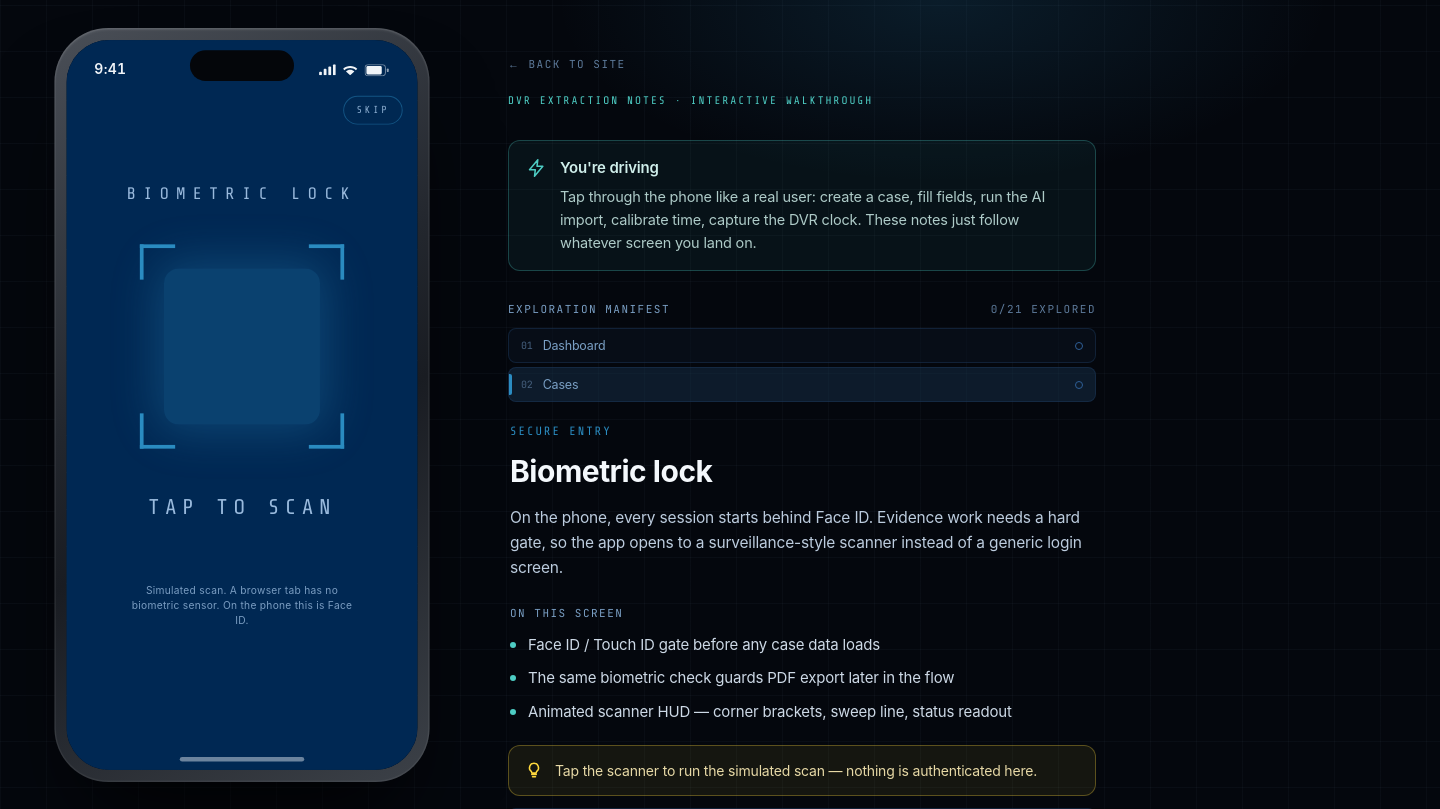
DemoExperience — boot gate › lands a first-time visitor on Cases, with the tab bar back
Click the button named "Run the simulated biometric scan" at (242, 405), box [66,40,418,770]
Wait 1500 ms
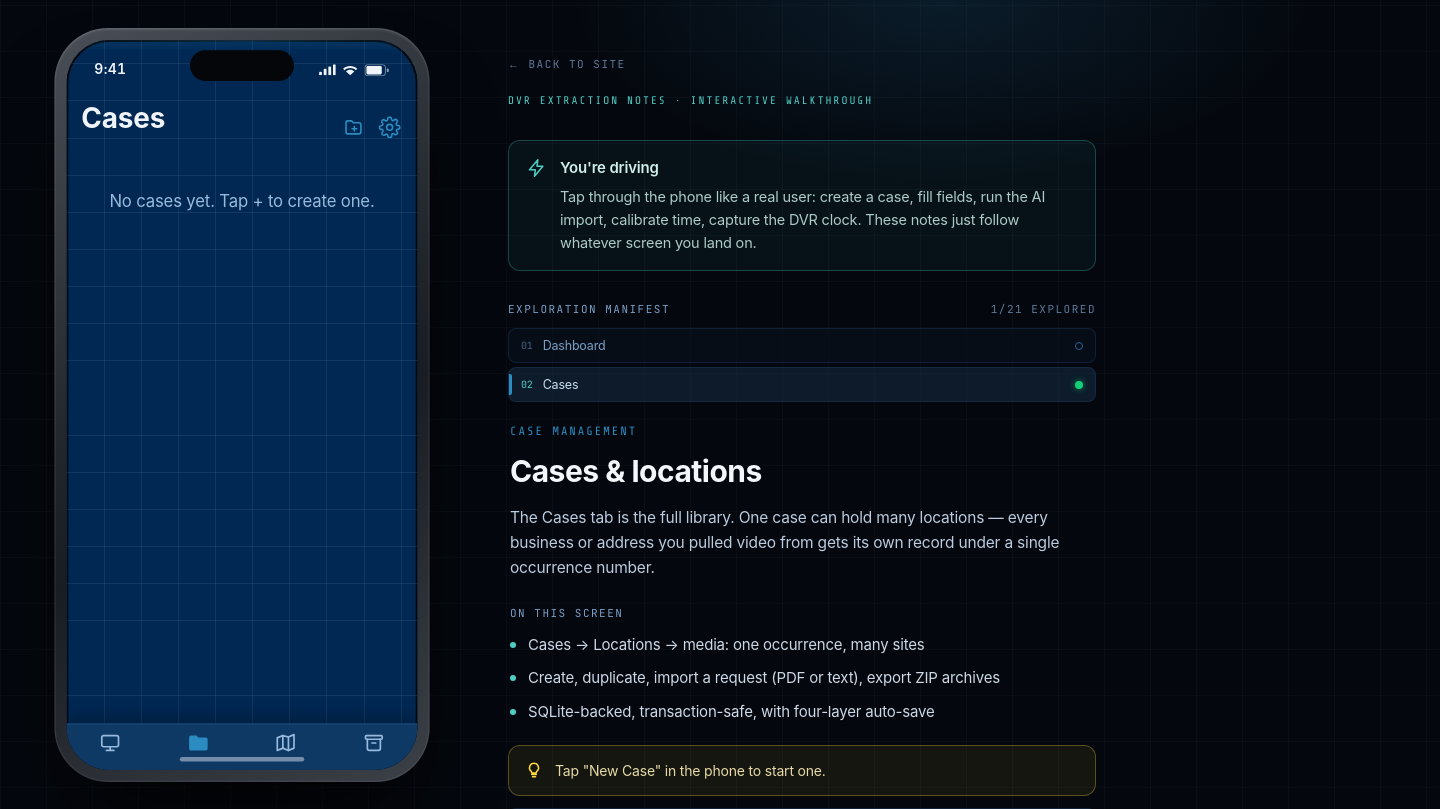
Check: the element with test id "demo-boot" is gone
Check: the text "No cases yet. Tap + to create one." is shown, box [109,189,374,214]
Check: the button named "Cases" is shown, box [154,730,242,759]
